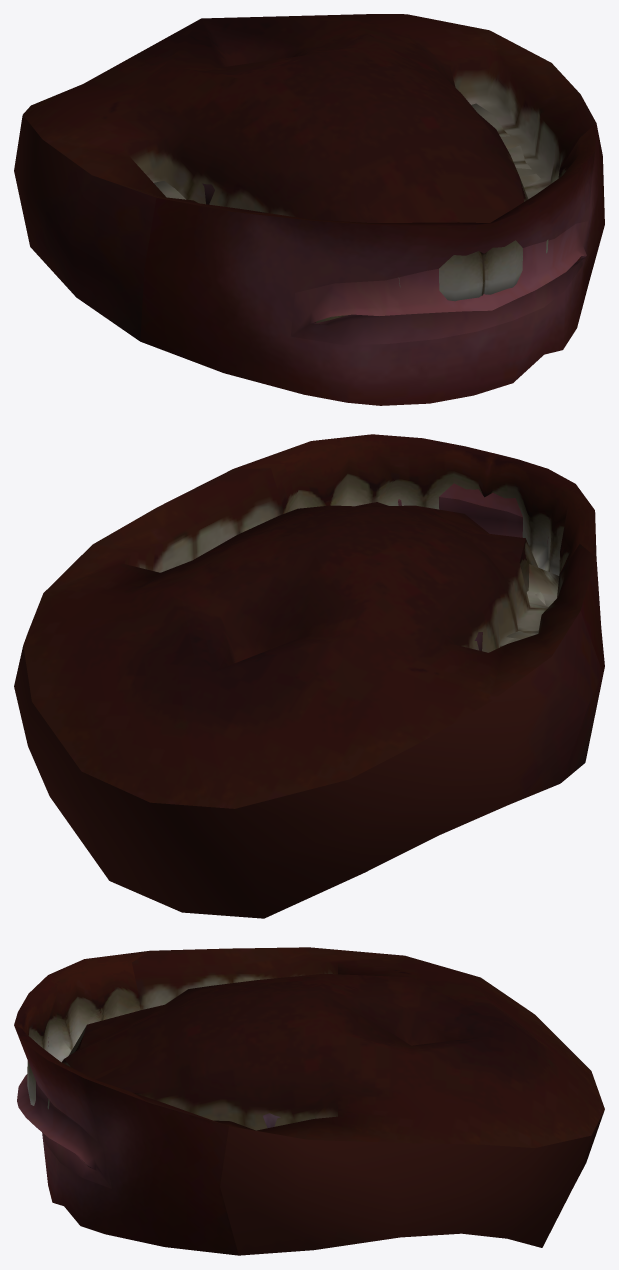
File: teeth.obj
3 views of the same model, one above another, from view 1: azimuth 30°, elevation 25°; view 2: azimuth 150°, elevation 25°; view 3: azimuth 270°, elevation 25° (orthographic). The views are drawn at different scales.
Parts seen in each view (by area): view 1: teeth; view 2: teeth; view 3: teeth.
Boxes of the visible parts, bbox=[...] form: teeth: bbox=[14, 14, 604, 405]; teeth: bbox=[14, 434, 604, 918]; teeth: bbox=[14, 947, 604, 1255].
Size of the model in its own units: 460 by 230 by 530.
